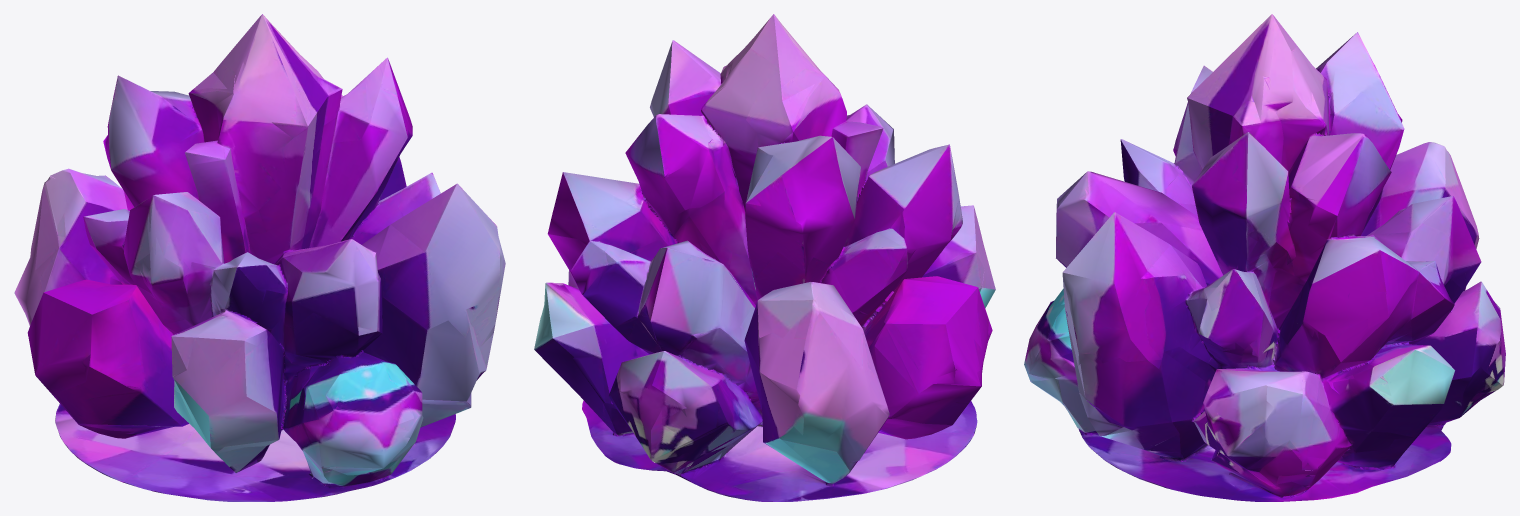
File: crystal.glb
The picture shows the model from 3 angles, left to right: view 1: azimuth 30°, elevation 25°; view 2: azimuth 150°, elevation 25°; view 3: azimuth 270°, elevation 25°; orthographic projection.
Bounding box in the file's own units: 1.9 × 1.73 × 1.87.
Materials: 1 (1 with a texture image).
